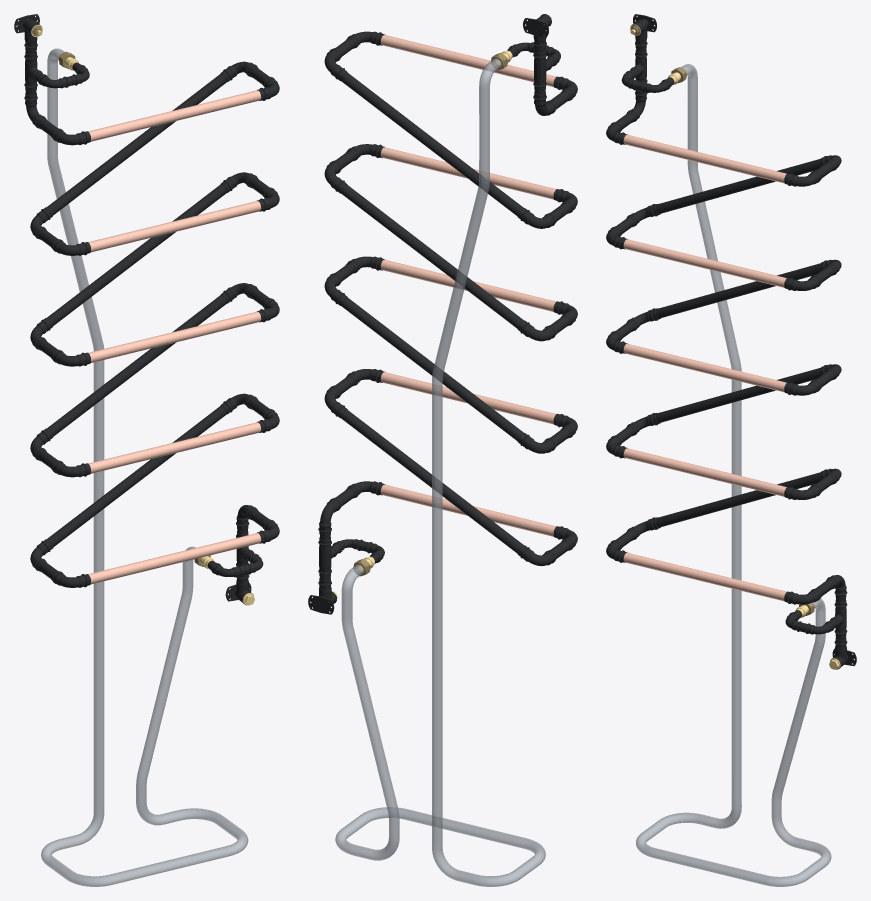
The model's file is el_camino.glb.
3 renders of one model, left to right at view 1: azimuth 30°, elevation 25°; view 2: azimuth 150°, elevation 25°; view 3: azimuth 330°, elevation 25°, orthographic. The views are drawn at different scales.
Parts seen in each view (by area): view 1: Rib.5, Pad.010, Pad.014, Pad.018, Pad.022, Pad.021, Pad.009, Pad.013, Pad.017, Pad.025; view 2: Rib.5, Pad.014, Pad.018, Pad.010, Pad.022, Pad.009, Pad.021, Pad.017, Pad.025, Pad.013, Pocket.001, Pocket.7 (+2 smaller); view 3: Rib.5, Pad.017, Pad.025, Pad.013, Pad.009, Pad.021, Pad.014, Pad.022, Pad.018, Pad.010.
Boxes of the visible parts, x1,y1,x2,y2 form: Rib.5: (41,48,248,886); Pad.010: (47,73,227,215); Pad.014: (47,184,227,325); Pad.018: (47,295,227,436); Pad.022: (47,405,227,547); Pad.021: (88,422,261,473); Pad.009: (88,90,261,141); Pad.013: (88,201,261,252); Pad.017: (88,311,261,362); Pad.025: (88,533,261,584); Rib.5: (335,58,545,886); Pad.014: (340,185,523,328); Pad.018: (340,297,523,440); Pad.010: (340,72,523,216); Pad.022: (340,409,523,553); Pad.009: (380,34,555,87); Pad.021: (380,372,555,424); Pad.017: (380,259,556,311); Pad.025: (380,484,555,536); Pad.013: (380,147,556,199); Pocket.001: (318,537,338,578); Pocket.7: (533,50,553,90); Rib.5: (636,64,831,886); Pad.017: (623,343,786,392); Pad.025: (623,552,786,601); Pad.013: (623,239,786,287); Pad.009: (623,134,786,183); Pad.021: (623,448,786,496); Pad.014: (655,263,821,318); Pad.022: (655,472,821,527); Pad.018: (655,367,820,422); Pad.010: (655,158,820,213).
Size of the model in its own units: 0.5598 by 1.93 by 0.243.
